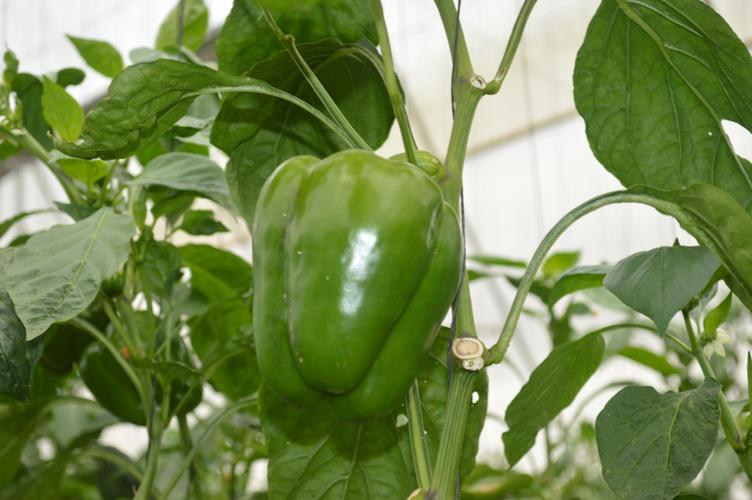BellPepper: (257, 156, 460, 401), (76, 312, 199, 417)
